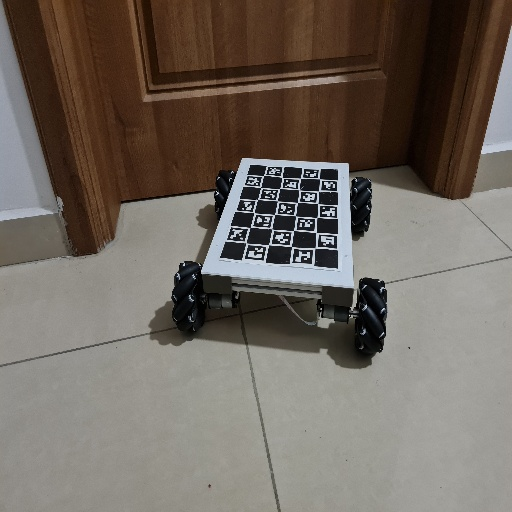Omniwheel: (169, 155, 390, 358)
